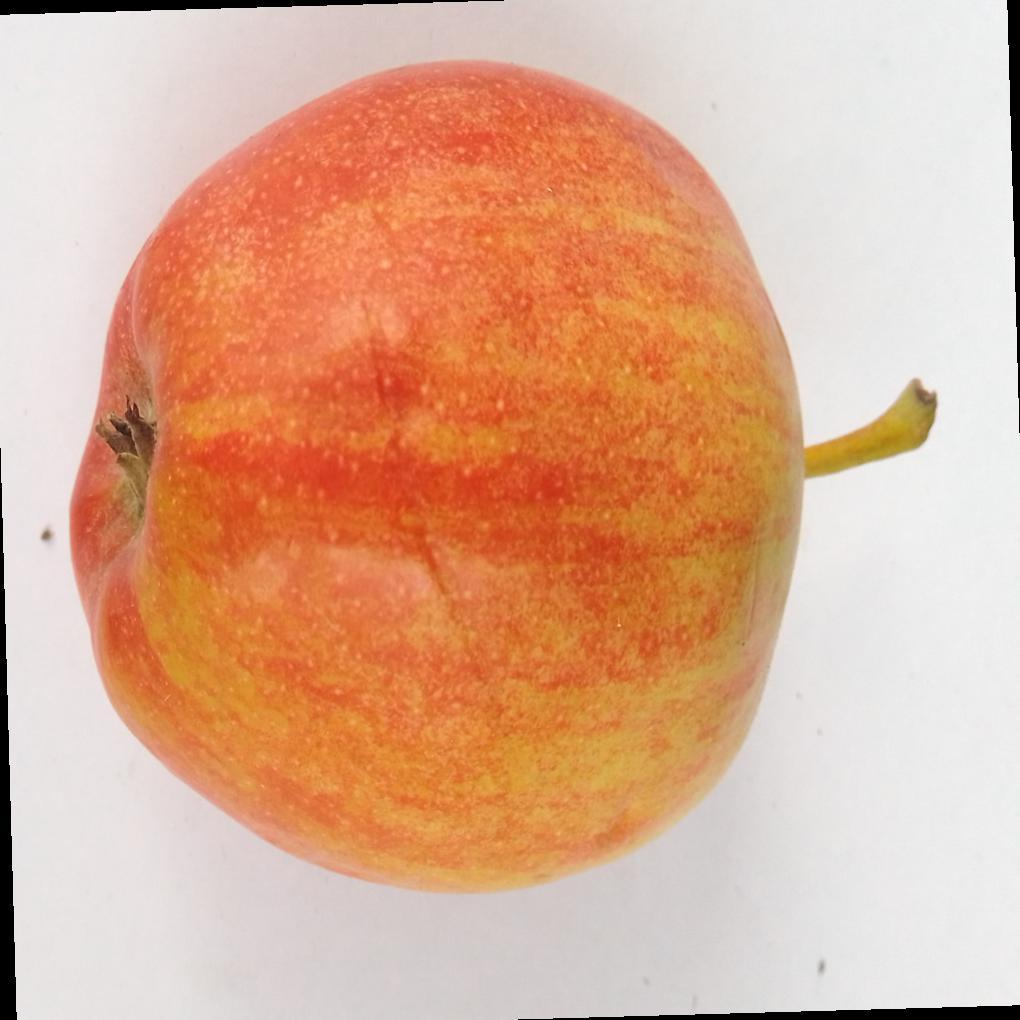FreshGuava: (67, 60, 820, 900)
